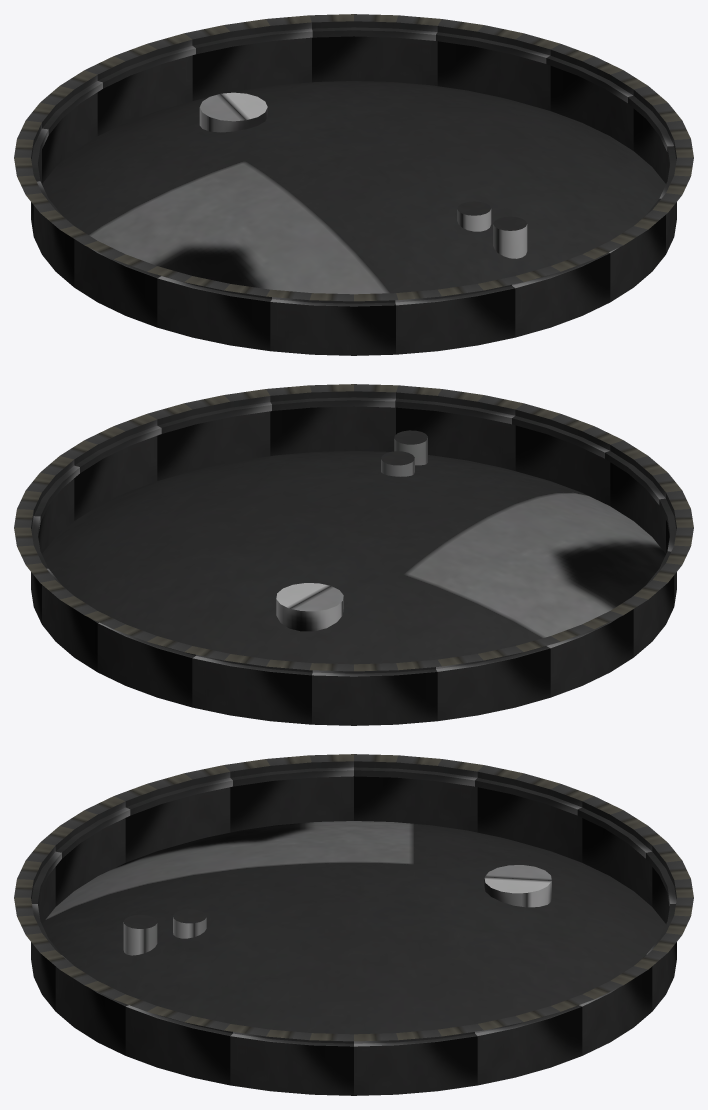
File: rotanev_lv_endcap_s4_1.obj
The picture shows the model from 3 angles, top to bottom: view 1: azimuth 30°, elevation 25°; view 2: azimuth 150°, elevation 25°; view 3: azimuth 270°, elevation 25°; orthographic projection.
Visible parts, largest first — view 1: 2; view 2: 2; view 3: 2.
Boxes of the visible parts, box(x1,y1,x2,y2) form: 2: box(14, 14, 693, 355); 2: box(14, 384, 693, 725); 2: box(14, 754, 693, 1095).
Bounding box in the file's own units: 5 × 0.5 × 5.
